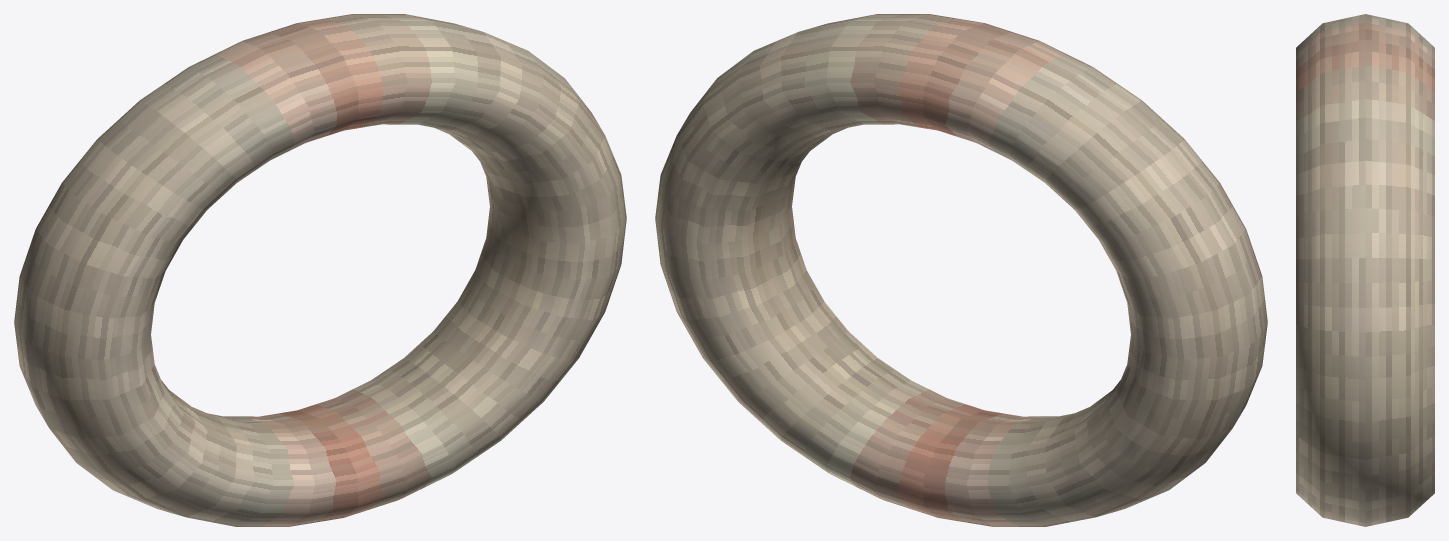
The model's file is tie.glb.
The picture shows the model from 3 angles, left to right: view 1: azimuth 30°, elevation 25°; view 2: azimuth 150°, elevation 25°; view 3: azimuth 270°, elevation 25°; orthographic projection. The views are drawn at different scales.
Visible parts, largest first — view 1: loop; view 2: loop; view 3: loop.
Part boxes in pixels (x1,y1,x2,y2): loop: (14,14,626,526); loop: (655,14,1267,526); loop: (1296,14,1434,526).
Size of the model in its own units: 0.18 by 0.14 by 0.04.
1 material, 1 textured.
